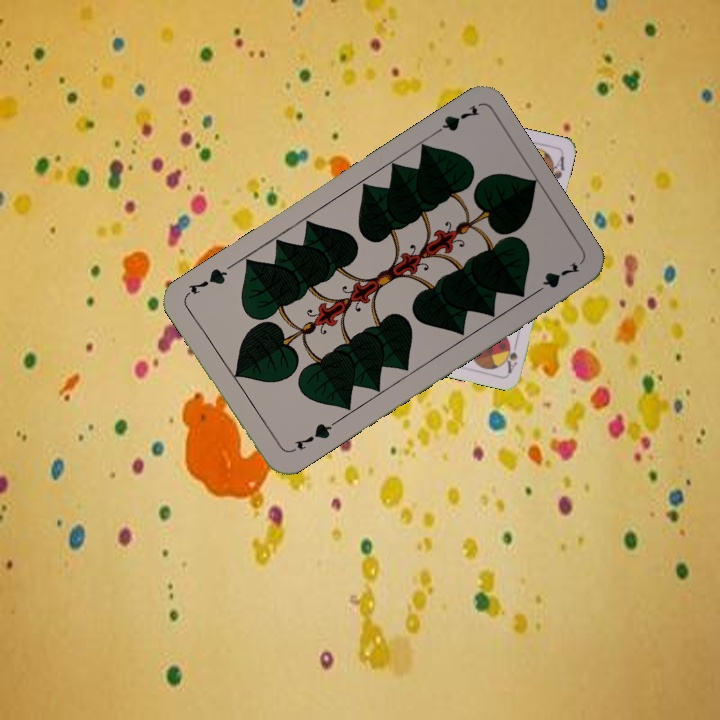G7: (426, 100, 482, 140), (285, 417, 338, 456)
SA: (503, 335, 520, 375)
